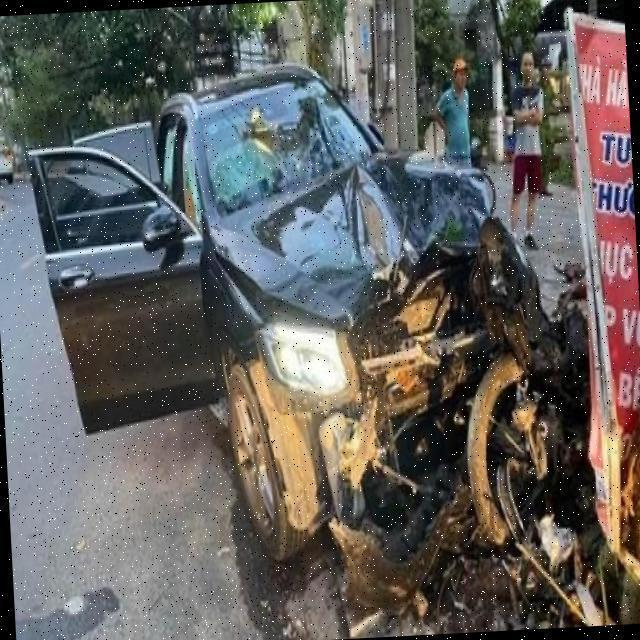accident: (157, 69, 633, 612)
